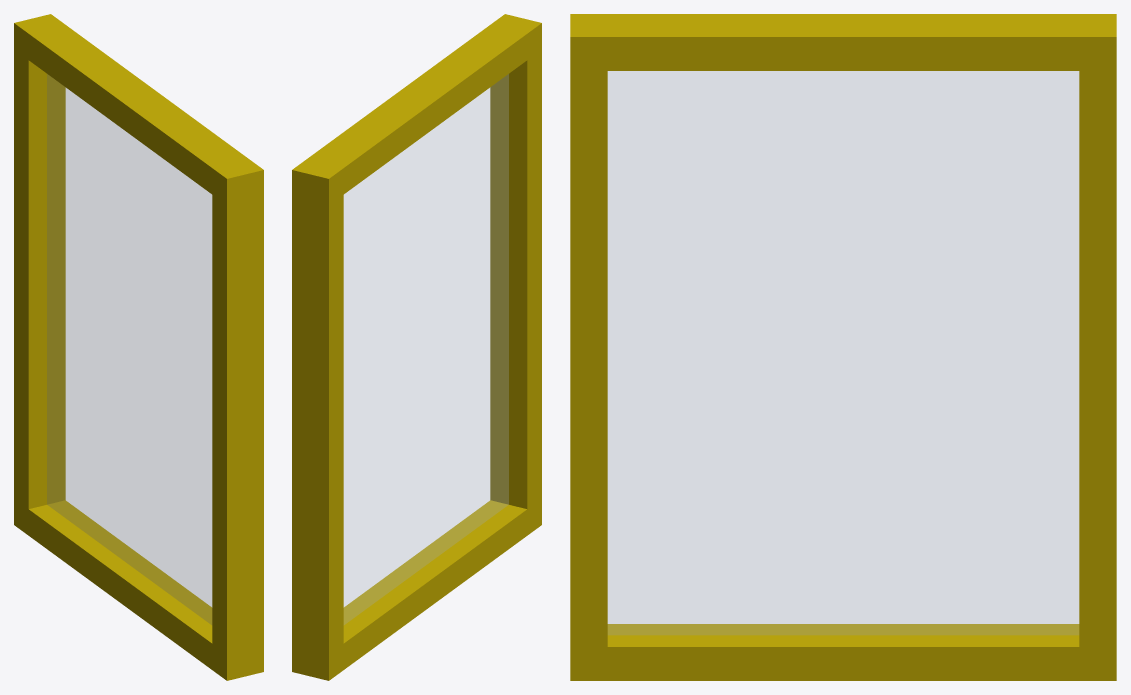
File: Window.fbx
The picture shows the model from 3 angles, left to right: view 1: azimuth 30°, elevation 25°; view 2: azimuth 150°, elevation 25°; view 3: azimuth 270°, elevation 25°; orthographic projection. The views are drawn at different scales.
Parts seen in each view (by area): view 1: Untitled.004; view 2: Untitled.004; view 3: Untitled.004.
Boxes of the visible parts, bbox=[...] form: Untitled.004: bbox=[14, 14, 263, 680]; Untitled.004: bbox=[292, 14, 541, 680]; Untitled.004: bbox=[570, 14, 1116, 680].
Bounding box in the file's own units: 10 × 130 × 100.
